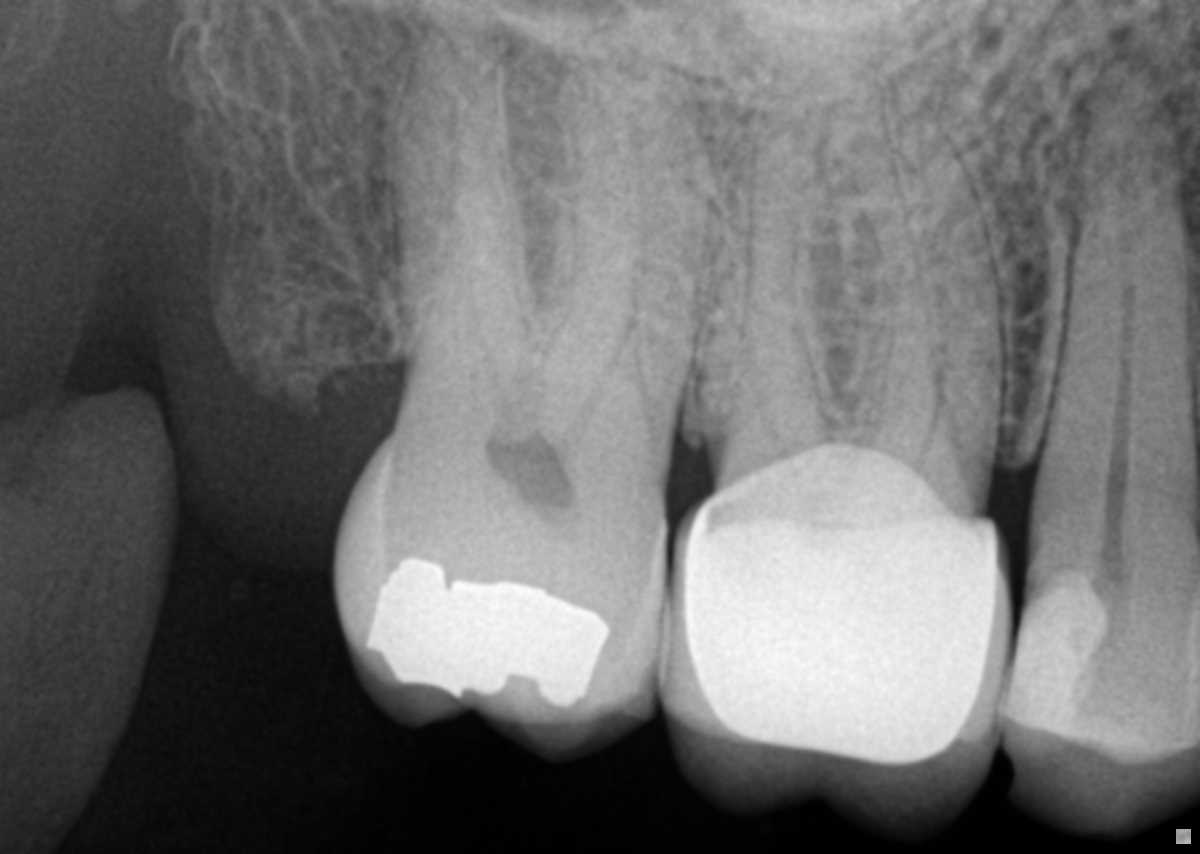Apical Lesion: (1045, 28, 1200, 228)
Distal Canal: (461, 251, 519, 437), (740, 344, 791, 463)
Distal Root: (385, 0, 536, 436), (695, 101, 836, 492)
Main Canal: (1106, 269, 1135, 472)
Main Root: (1042, 57, 1200, 483)
Mesial Canal: (562, 113, 646, 450), (907, 329, 945, 475)
Mesial Root: (513, 10, 709, 456), (855, 115, 1005, 498)
Palatal Root: (722, 0, 948, 459)
